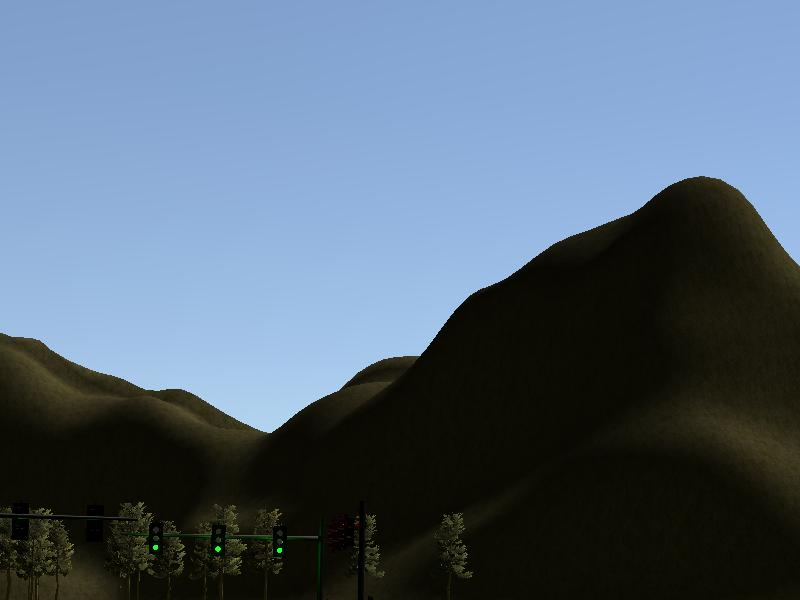Green: (148, 524, 165, 554), (212, 525, 225, 555), (273, 527, 286, 557)
